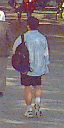person: (12, 17, 53, 121)
